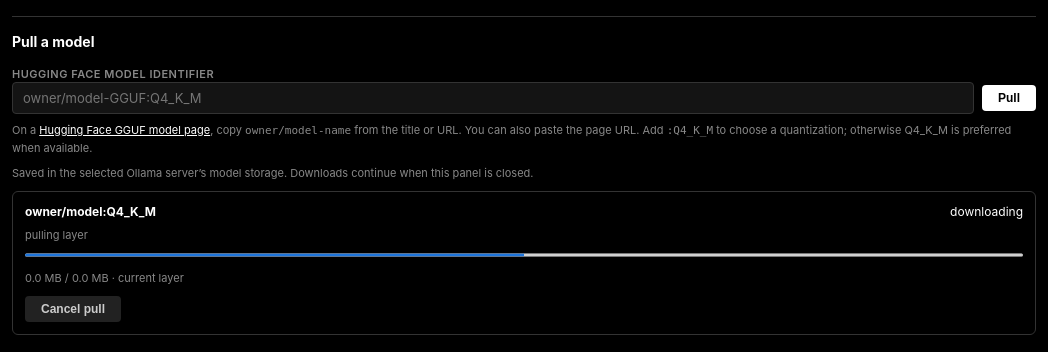
Test: model pulls › restores an active pull on reopening and can cancel it
The width and height of the screenshot is (1048, 352).
Step 1. Click the button "Cancel pull" → click(73, 309), box [25,296,121,322]
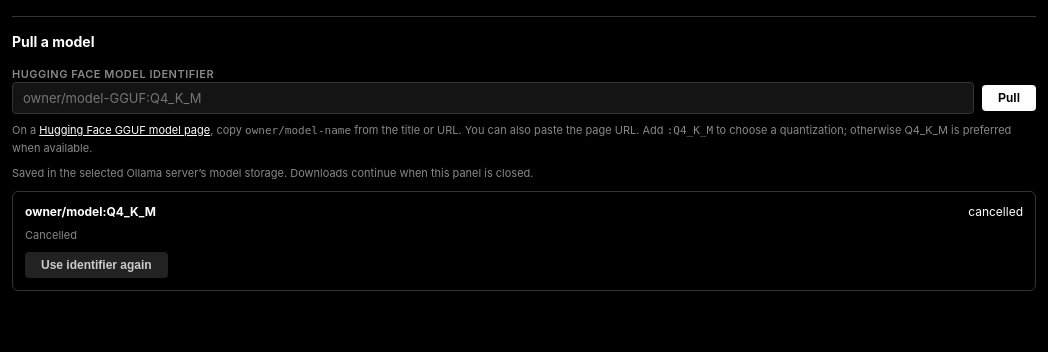
Expected: the text "Cancelled" is shown, [25,228,77,242]
